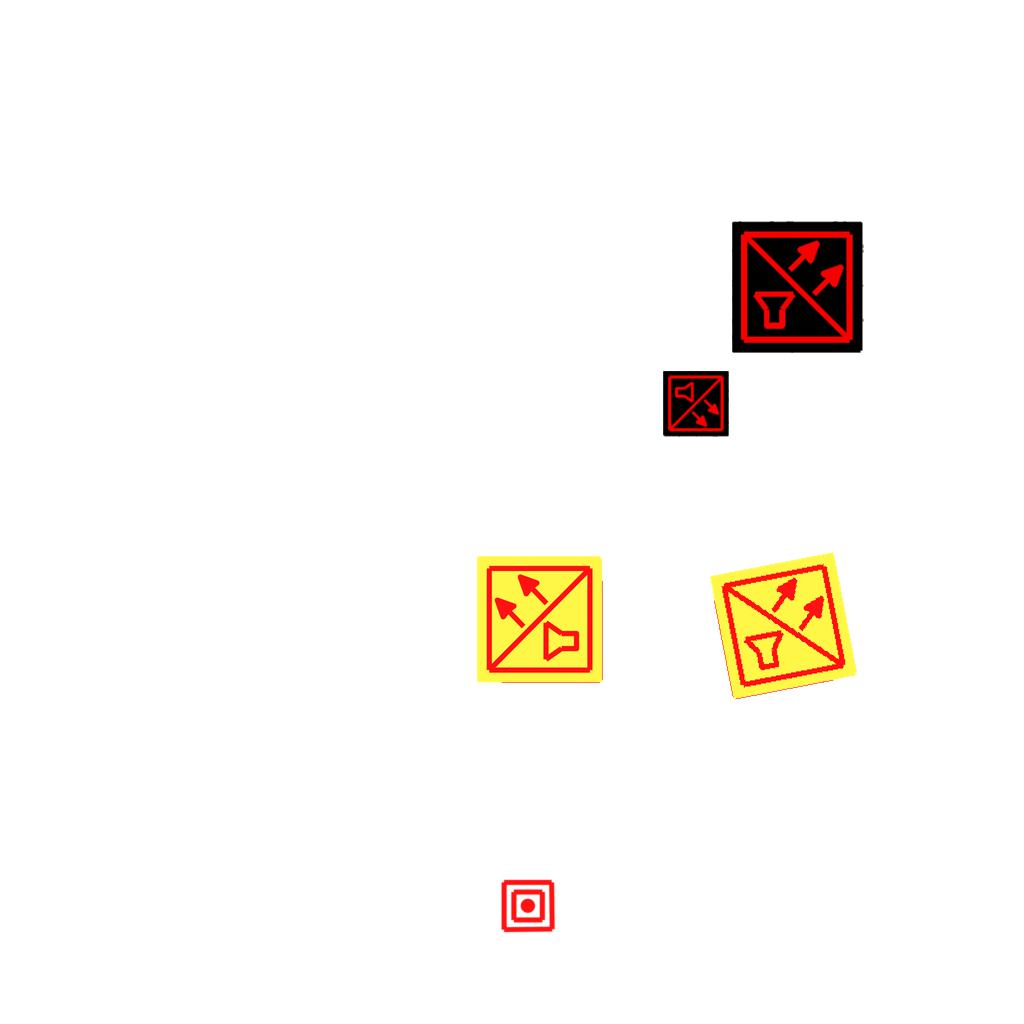NAM-Nichtautomatischer_Melder: (500, 878, 556, 934)
OKW_Multisensormelder_(Kombination_optischer_Rauch-Kahlenmonoxid_Waerme-Melder): (706, 548, 862, 704), (732, 221, 864, 353), (474, 553, 606, 685), (663, 371, 729, 437)
